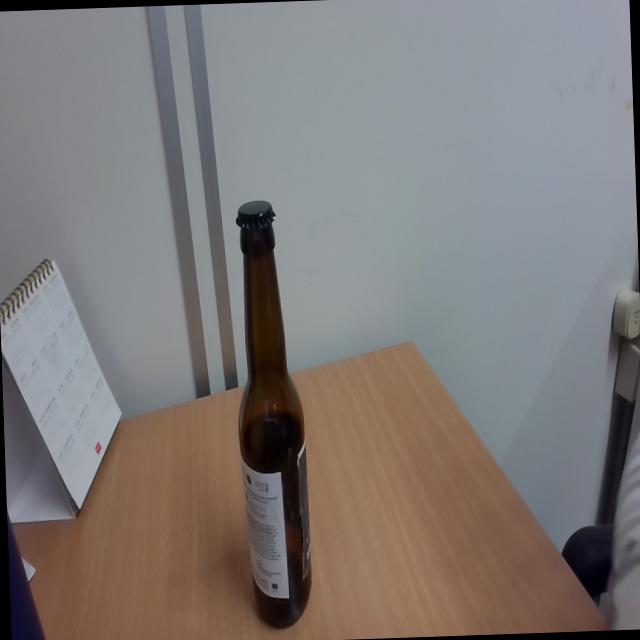Bottle: (228, 195, 314, 628)
Cap: (233, 194, 276, 238)
Label: (242, 470, 286, 600)
